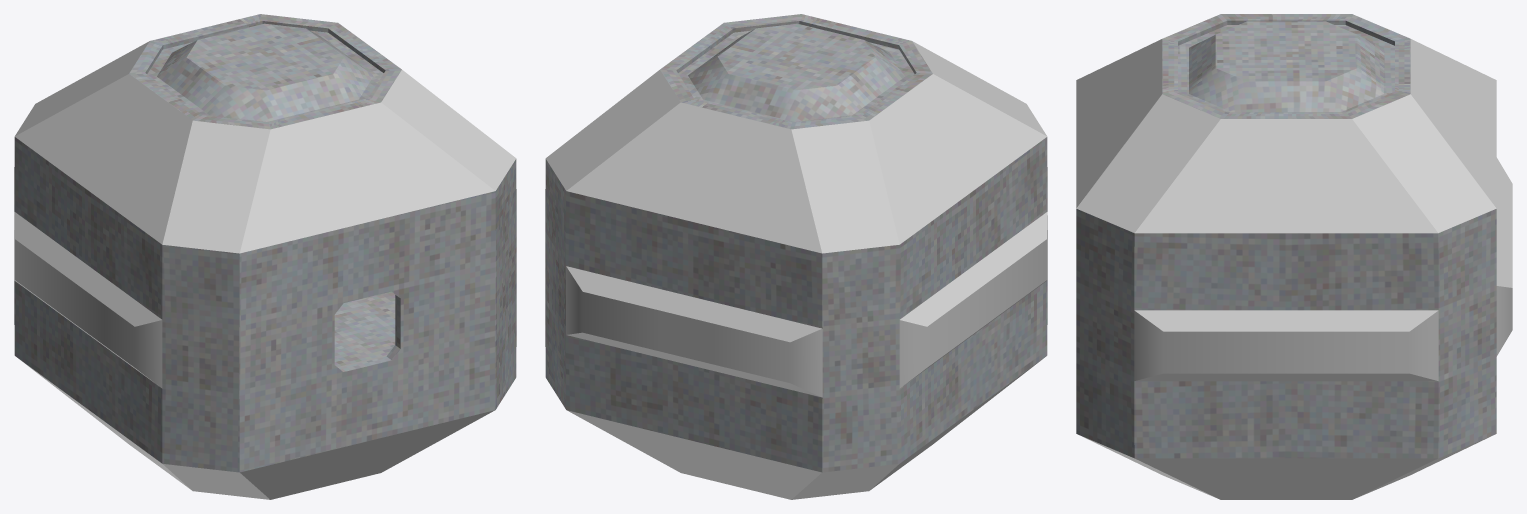
File: shiproomblock.fbx
3 views of the same model, side by side, from view 1: azimuth 30°, elevation 25°; view 2: azimuth 150°, elevation 25°; view 3: azimuth 270°, elevation 25° (orthographic). The views are drawn at different scales.
Visible parts, largest first — view 1: geo_shipblock; view 2: geo_shipblock; view 3: geo_shipblock.
Part boxes in pixels (x1,y1,x2,y2): geo_shipblock: [14, 14, 516, 499]; geo_shipblock: [545, 14, 1047, 499]; geo_shipblock: [1076, 14, 1512, 499].
Size of the model in its own units: 2152 by 2079 by 2076.
